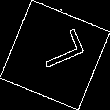L_SW: (26, 31, 84, 79)
